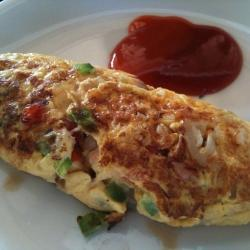ketchup: (108, 10, 241, 102)
omelette: (1, 53, 249, 229)
